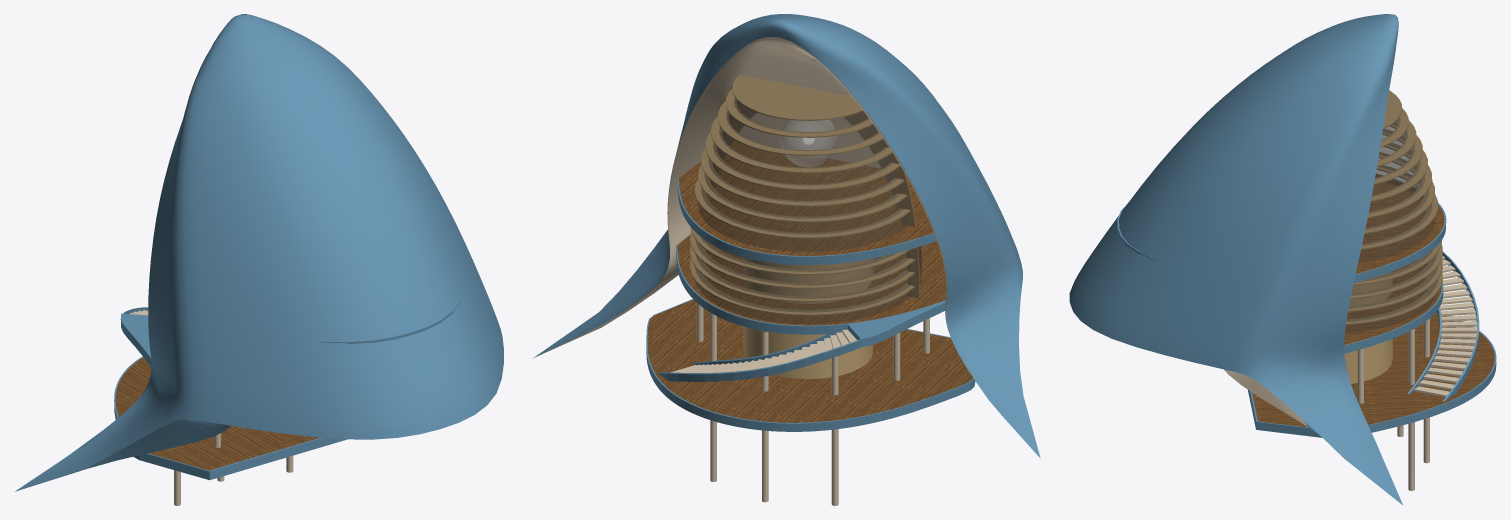
Rendered from lwf.glb.
3 renders of one model, left to right at view 1: azimuth 30°, elevation 25°; view 2: azimuth 150°, elevation 25°; view 3: azimuth 270°, elevation 25°, orthographic. The views are drawn at different scales.
Visible parts, largest first — view 1: Plane011, LWF; view 2: LWF, Plane011, Cylinder005, Shape006, Cylinder006, Group028, Shape005, Shape008, Sphere013; view 3: Plane011, LWF, Shape006, Cylinder005, Group028, Cylinder006, Shape005.
Boxes of the visible parts, x1=… form: Plane011: x1=15, y1=14, x2=503, y2=491; LWF: x1=114, y1=300, x2=460, y2=480; LWF: x1=536, y1=37, x2=975, y2=431; Plane011: x1=533, y1=14, x2=1040, y2=458; Cylinder005: x1=695, y1=97, x2=921, y2=323; Shape006: x1=690, y1=75, x2=914, y2=315; Cylinder006: x1=743, y1=257, x2=873, y2=378; Group028: x1=658, y1=329, x2=860, y2=381; Shape005: x1=696, y1=303, x2=929, y2=505; Shape008: x1=706, y1=85, x2=919, y2=298; Sphere013: x1=780, y1=120, x2=836, y2=166; Plane011: x1=1069, y1=14, x2=1403, y2=505; LWF: x1=1117, y1=173, x2=1496, y2=437; Shape006: x1=1346, y1=90, x2=1442, y2=324; Cylinder005: x1=1345, y1=117, x2=1437, y2=332; Group028: x1=1407, y1=251, x2=1479, y2=401; Cylinder006: x1=1344, y1=271, x2=1392, y2=383; Shape005: x1=1357, y1=318, x2=1429, y2=490.
Size of the model in its own units: 19.96 by 18.38 by 15.95.
Materials: 9 (1 with a texture image).
